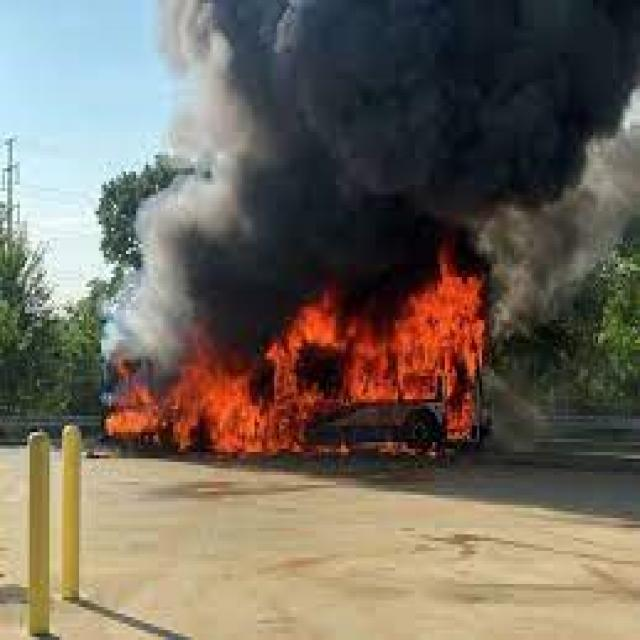fire: (104, 270, 492, 462)
smoke: (281, 3, 640, 270), (101, 4, 282, 356), (492, 274, 593, 340)
